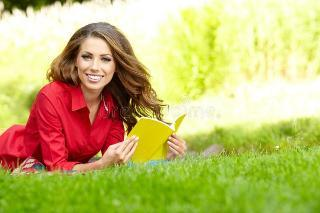person - v3 P: (0, 23, 163, 171)
